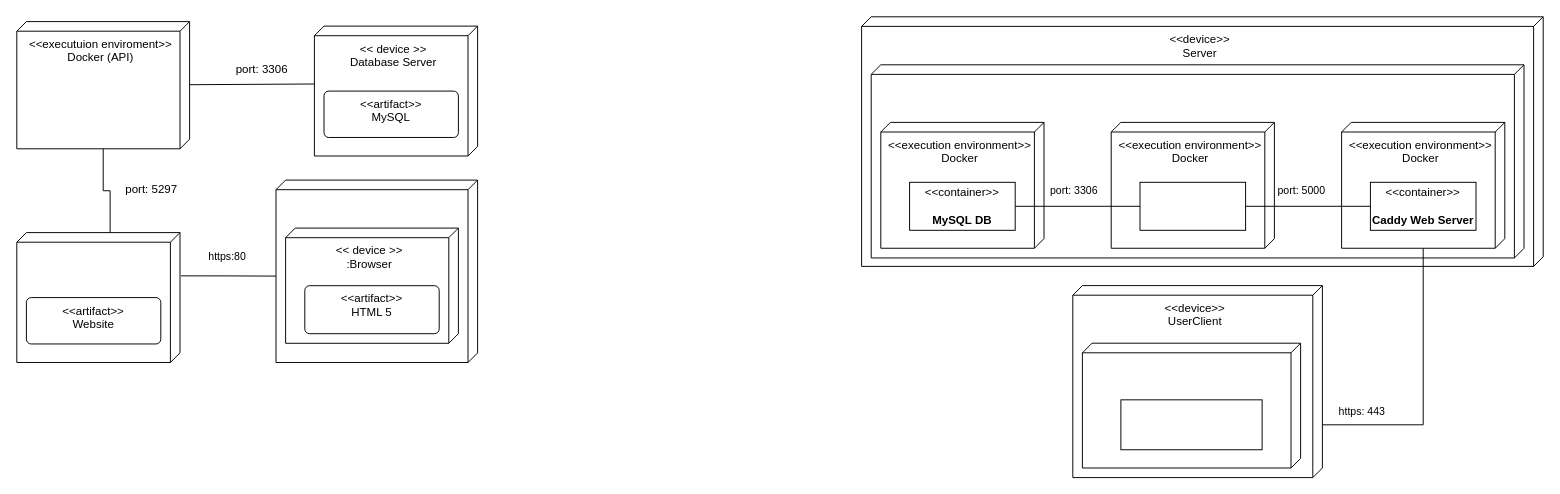
Some shapes in this 1560 by 494 pixel diagram are drawn without their labels. The box of each missing label's shape, as (x1, y1, x2, y2) in pixels:
<< device >> :UserClient: (275, 179, 478, 362)
<<container>> API: (1139, 181, 1246, 230)
<<container>> HTML 5: (1120, 399, 1262, 450)
<<execution environment>> Browser: (1081, 342, 1301, 468)
<<execution environment>> Docker-compose: (870, 64, 1524, 258)
<<executuion enviroment>> Docker (frontend): (16, 232, 180, 362)
